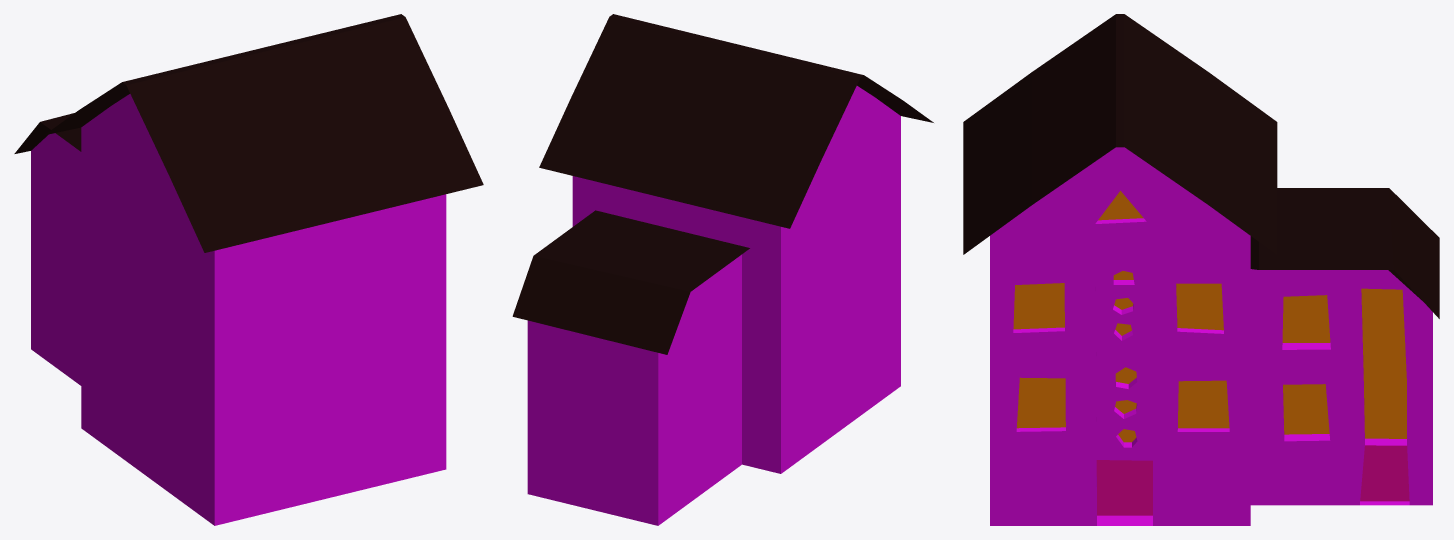
File: Building9 1.fbx
3 views of the same model, side by side, from view 1: azimuth 30°, elevation 25°; view 2: azimuth 150°, elevation 25°; view 3: azimuth 270°, elevation 25° (orthographic). The views are drawn at different scales.
Parts seen in each view (by area): view 1: Plane; view 2: Plane; view 3: Plane.
Part boxes in pixels (box(x1,y1,x2,y2)): Plane: box(14, 14, 483, 525); Plane: box(512, 14, 933, 525); Plane: box(963, 14, 1439, 525).
Size of the model in its own units: 96.57 by 132 by 146.
